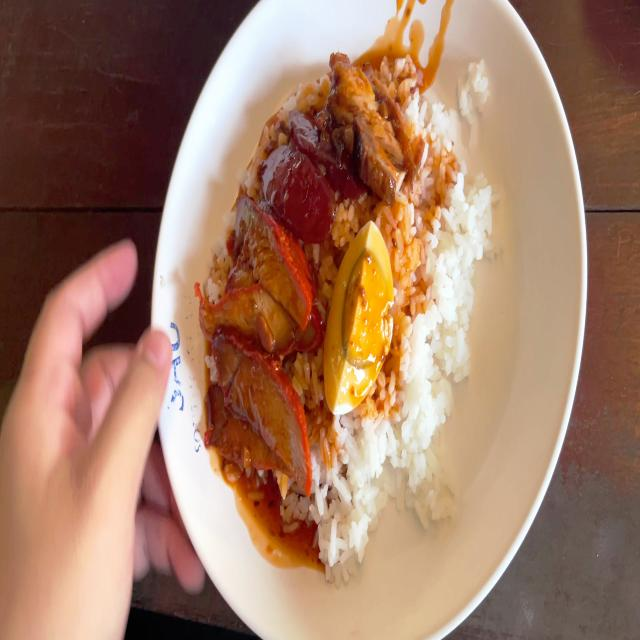boiled_egg: (325, 222, 389, 410)
chainese_sausage: (269, 110, 349, 238)
crispy_pork: (338, 54, 416, 193)
red_pork: (208, 209, 315, 485)
red_pork_and_crispy_pork: (216, 58, 493, 538)
rice: (418, 102, 490, 366), (313, 413, 402, 565), (401, 319, 451, 528)
